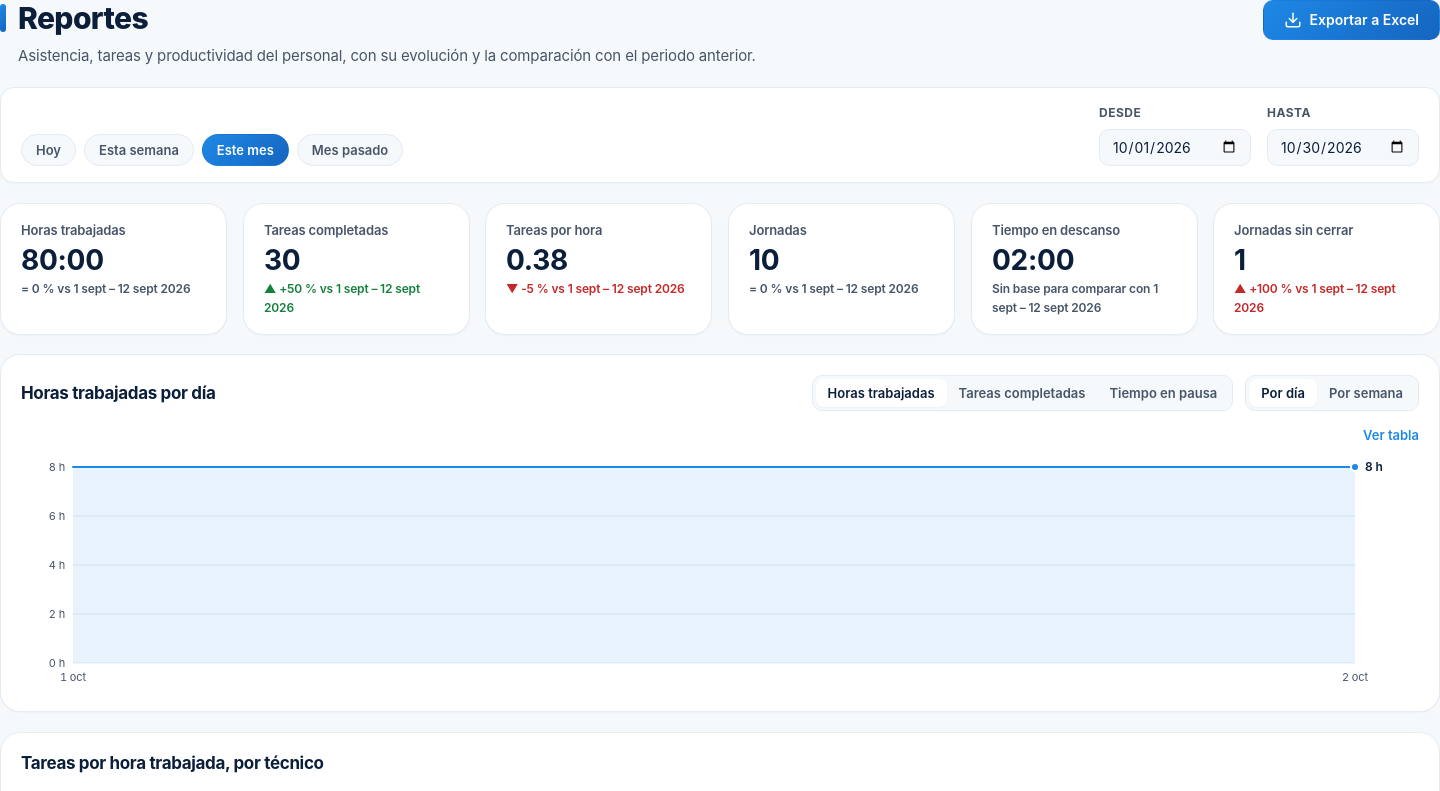
Test: tendencia › los valores también se pueden leer en una tabla
This screenshot has width=1440, height=791.
Expected: the picture named "Horas trabajadas por día" is shown, top-left (21, 451), bottom-right (1419, 691)
Click the button "Ver tabla" at {"x": 1391, "y": 435}, box top-left (1363, 427), bottom-right (1419, 443)
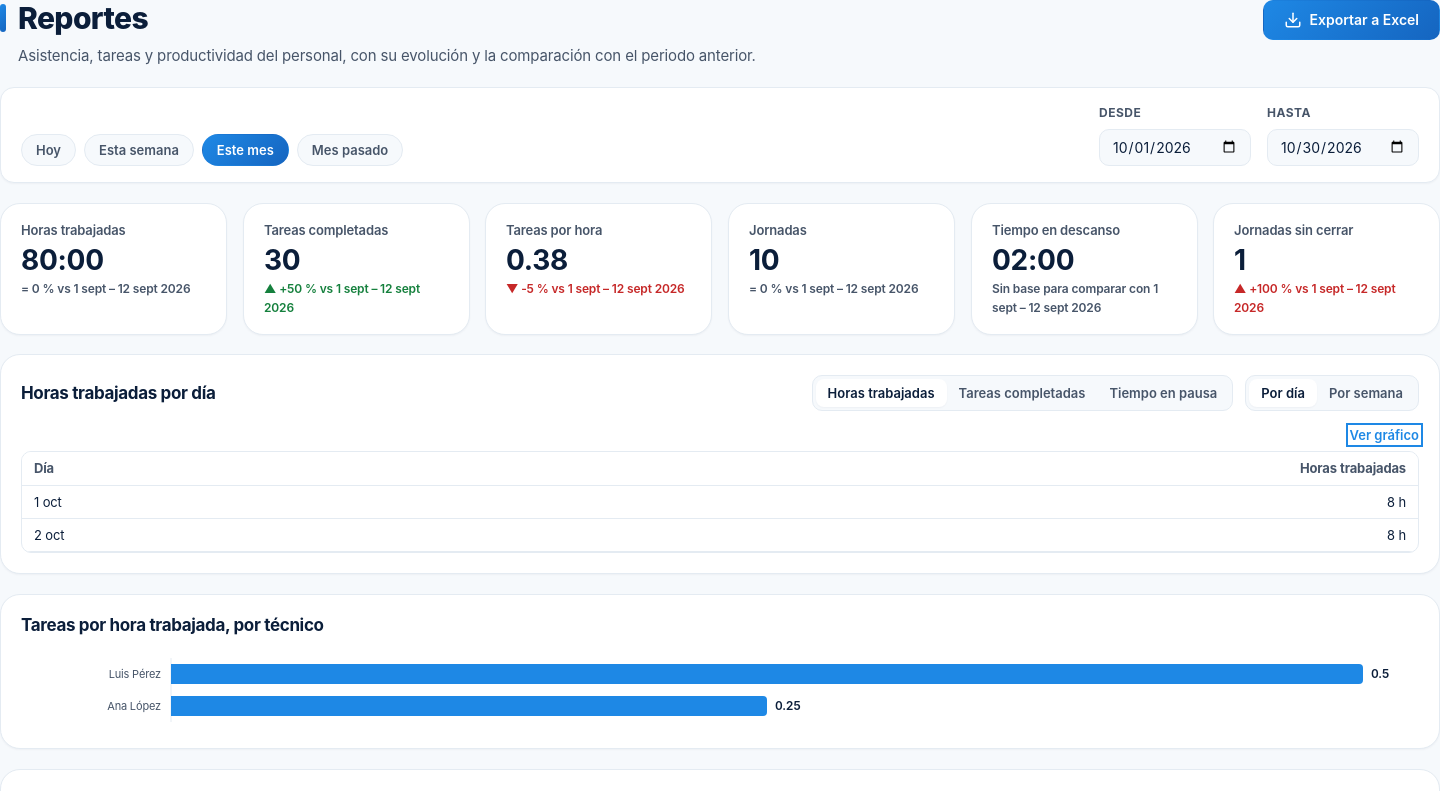
Expected: the text "8 h" is shown 2 times, top-left (433, 486), bottom-right (1418, 518); top-left (433, 518), bottom-right (1418, 551)
